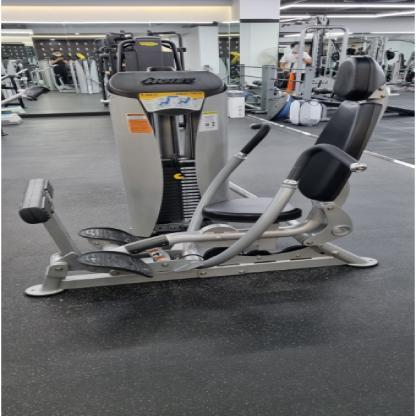Chest Press machine: (15, 42, 391, 306)
